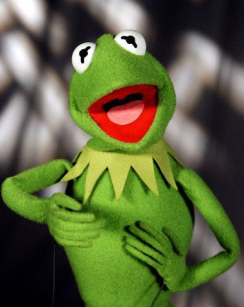kermit: (67, 28, 178, 153)
